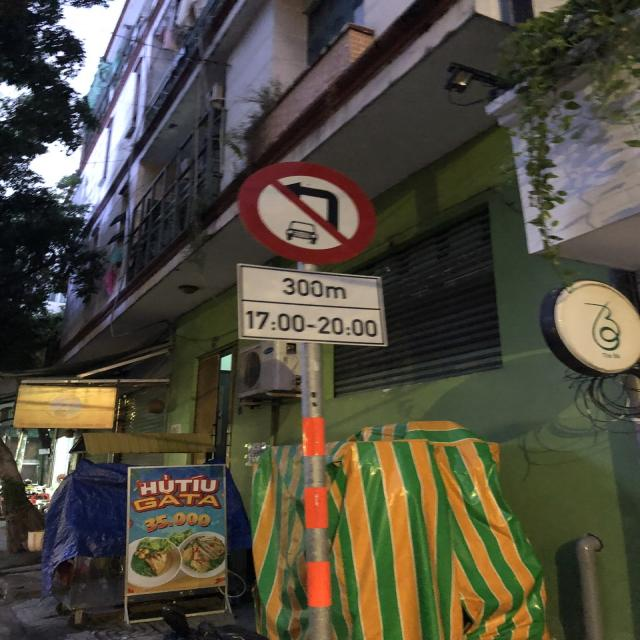Bien bao cam xe o to re trai: (230, 153, 377, 269)
